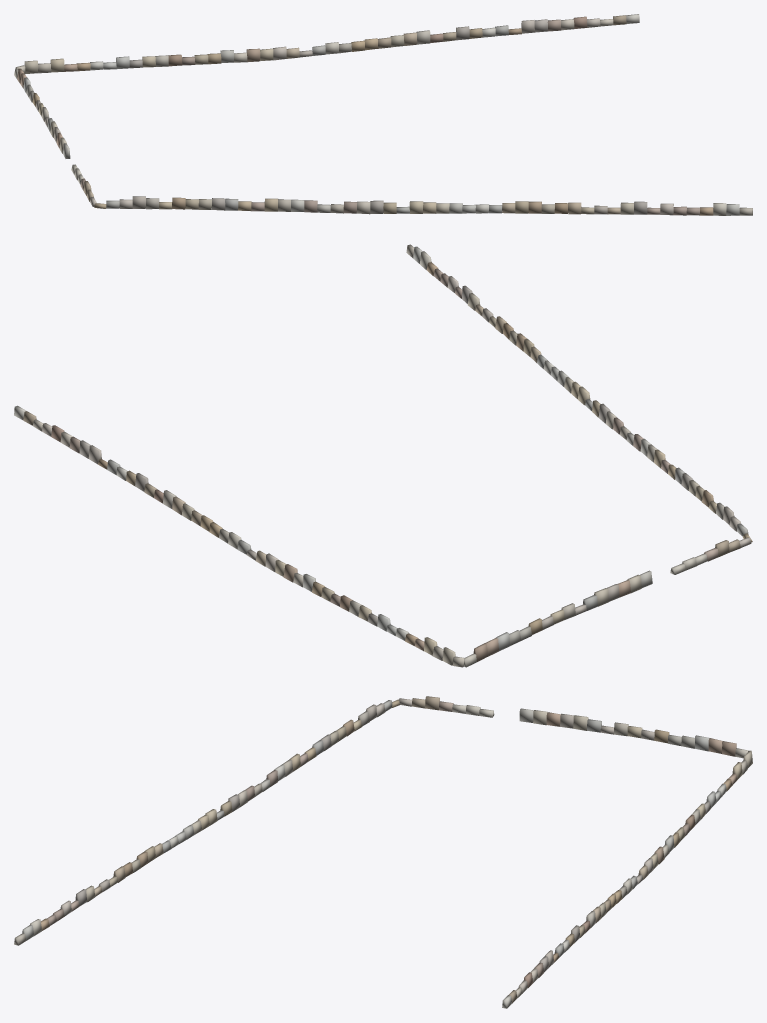
The model's file is farm_-7_13_far.glb.
3 renders of one model, top to bottom at view 1: azimuth 30°, elevation 25°; view 2: azimuth 150°, elevation 25°; view 3: azimuth 270°, elevation 25°, orthographic. The views are drawn at different scales.
Visible parts, largest first — view 1: geometry_0; view 2: geometry_0; view 3: geometry_0.
Boxes of the visible parts, x1,y1,x2,y2 form: geometry_0: [14, 14, 752, 215]; geometry_0: [14, 244, 752, 667]; geometry_0: [14, 696, 752, 1008].
Bounding box in the file's own units: 83.29 × 3.83 × 83.85.
